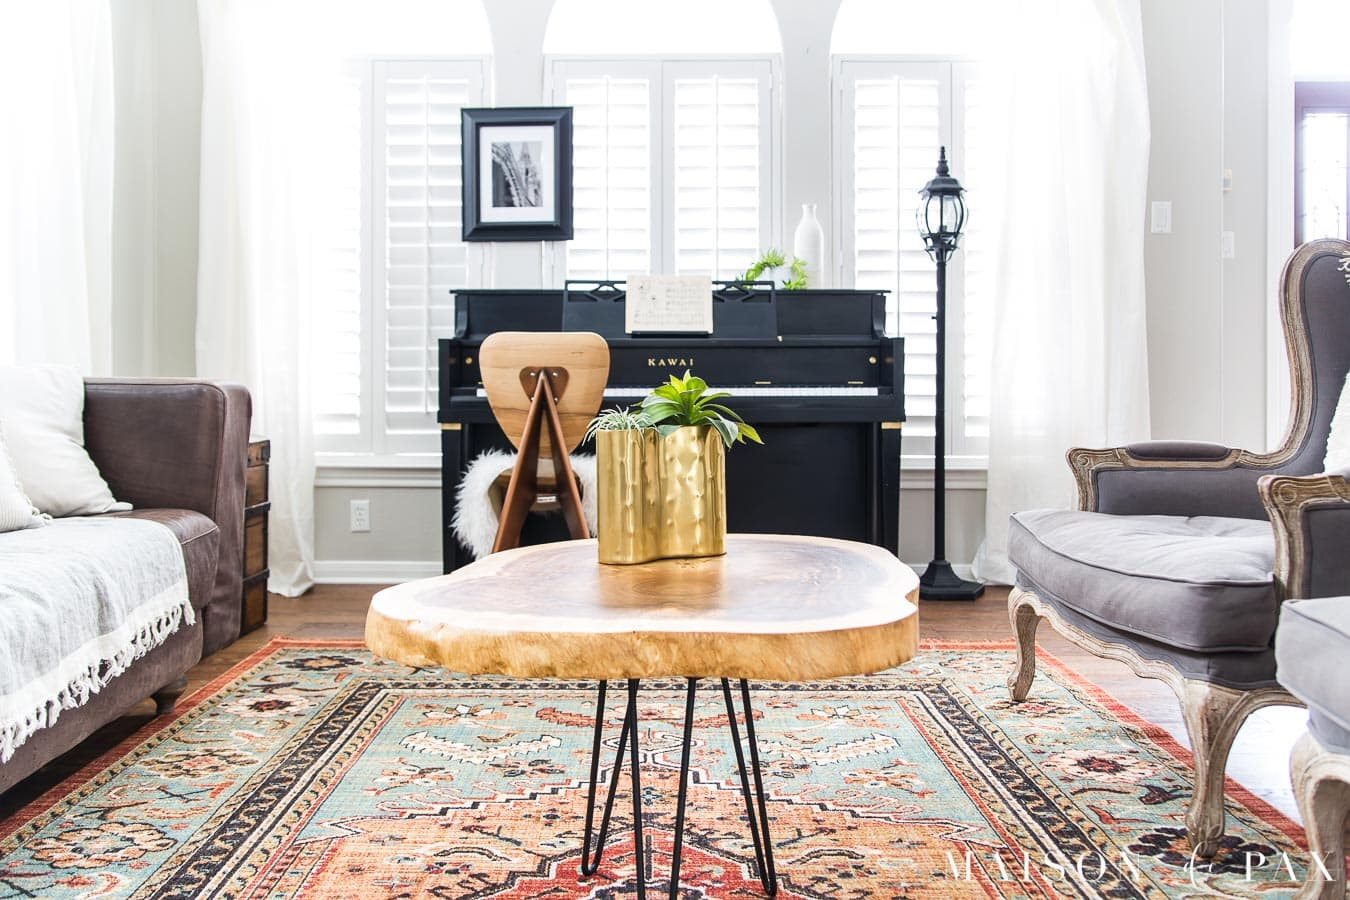coklat: (366, 534, 926, 675), (483, 329, 596, 540)
hitam: (438, 284, 904, 502), (919, 145, 969, 596)
putih: (1, 373, 87, 519), (626, 277, 711, 330), (794, 209, 825, 281)
